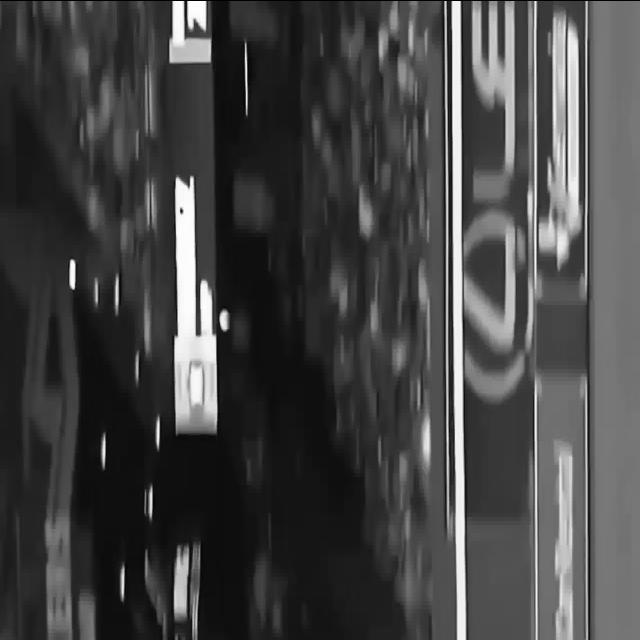baseball: (218, 308, 230, 332)
